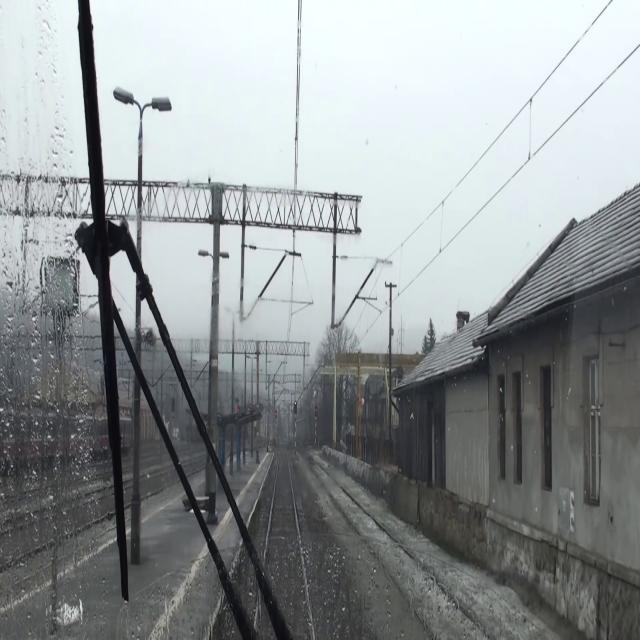rail-track: (307, 456, 482, 639), (267, 448, 310, 639)
